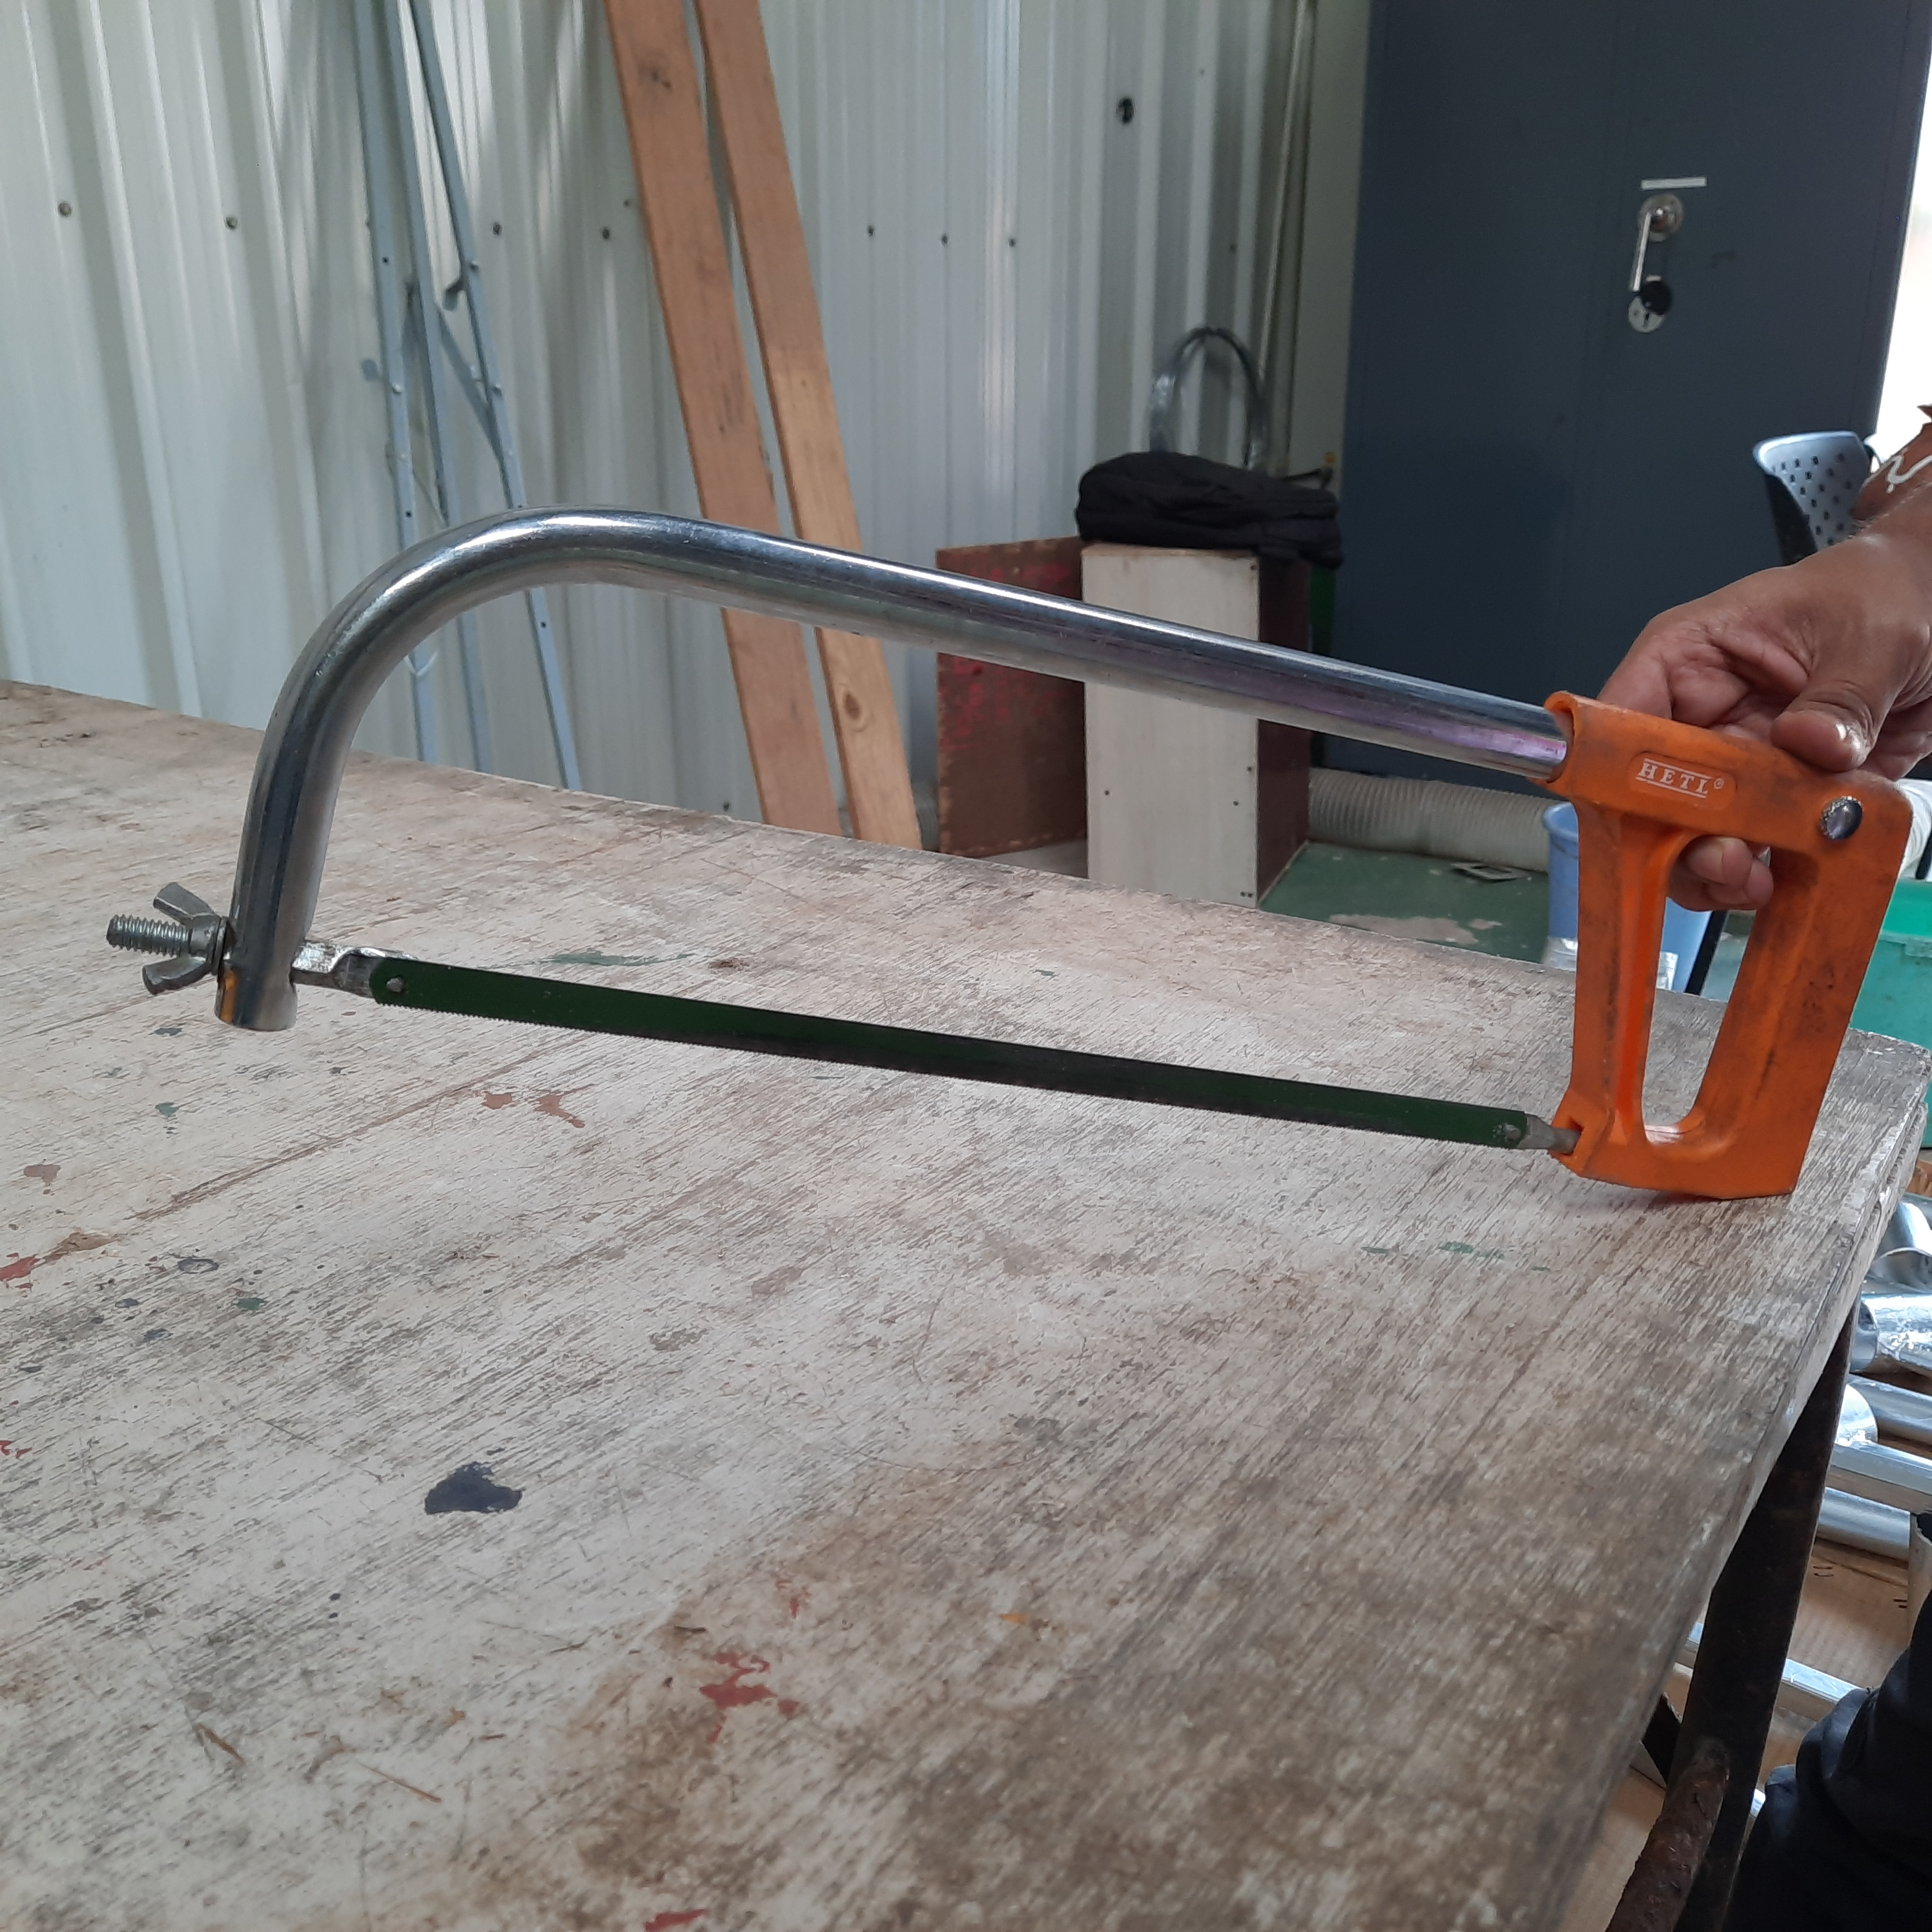Hexaframe: (88, 449, 1932, 1223)
